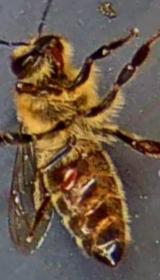varroa_mite: (51, 160, 81, 190)
